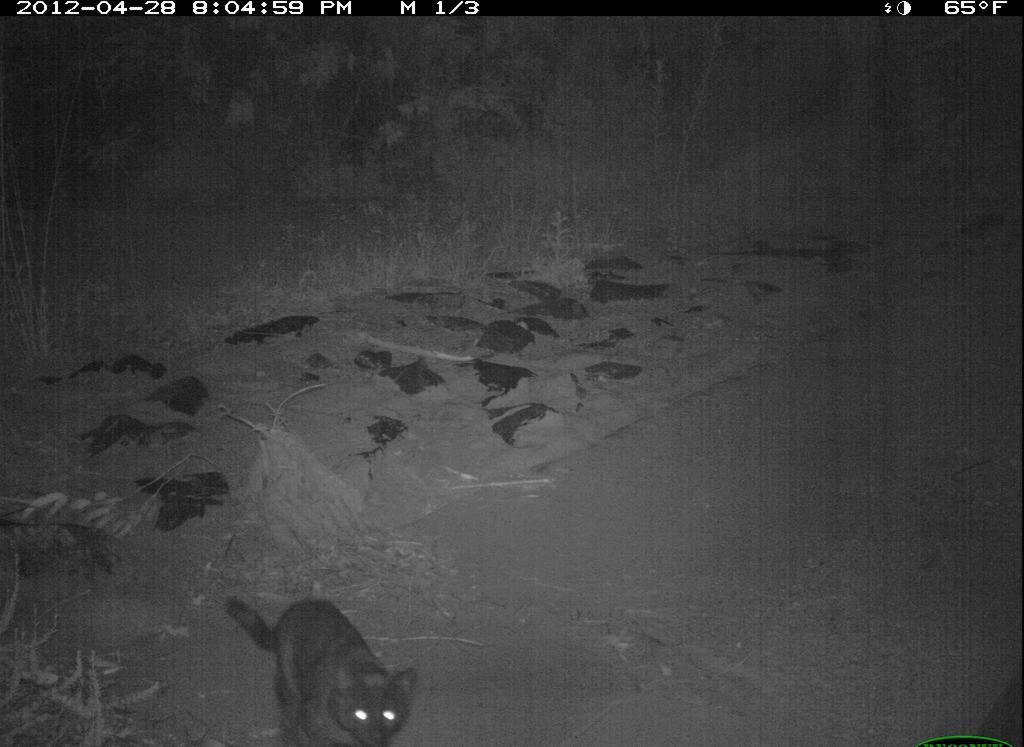cat: (222, 573, 422, 747)
